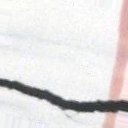crackTip: (1, 76, 128, 115)
